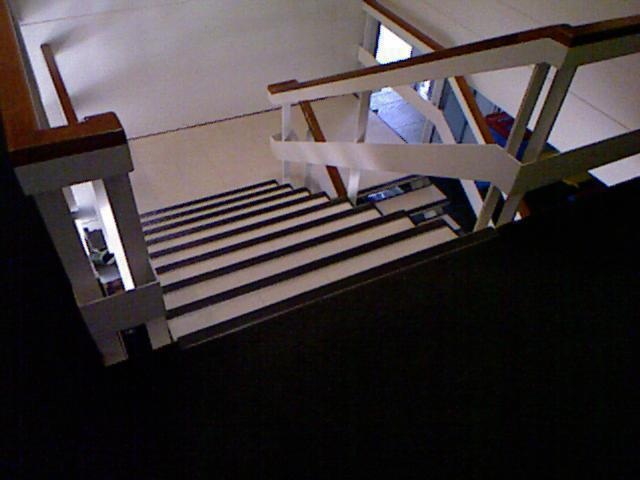Escaleras: (123, 191, 460, 325), (350, 180, 503, 258)
